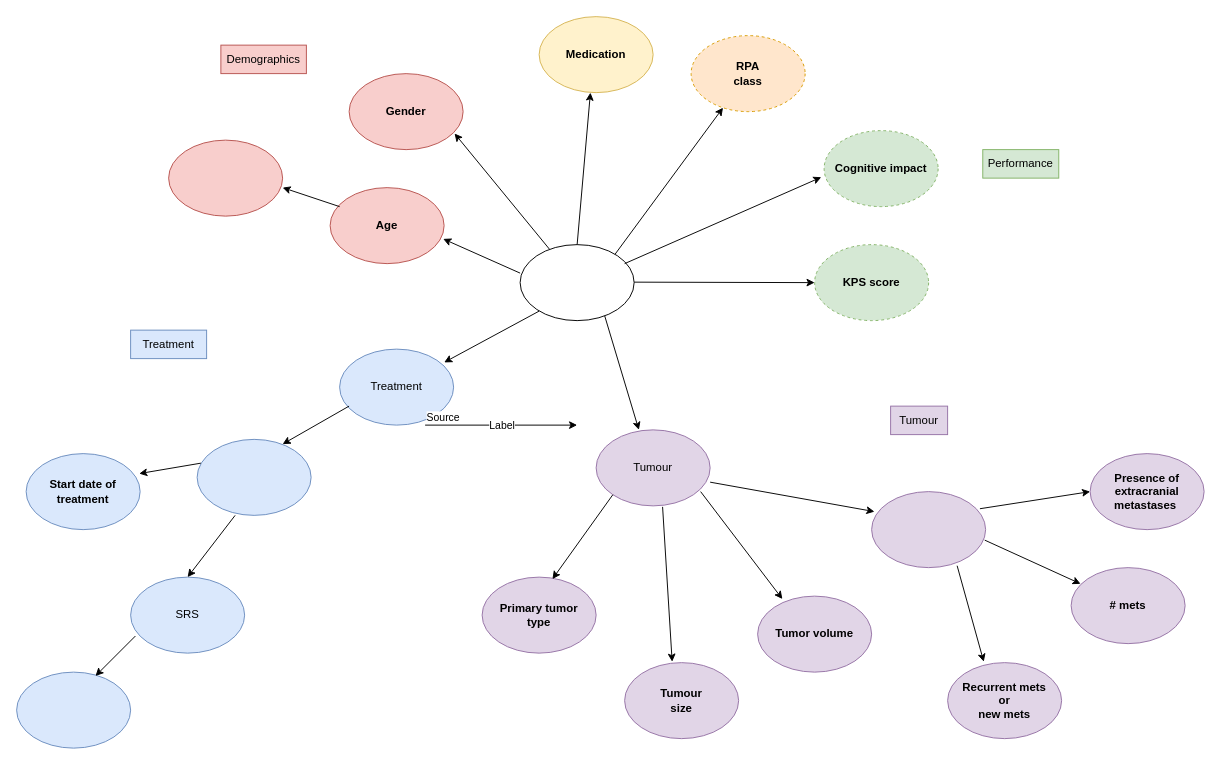
The diagram is 1221 pixels wide and 765 high, and some of its shapes have lost their labels. The centre of each missing label's shape, as x and y in pixels:
"Metastasis" belongs at [928,529].
"Patient" belongs at [576,282].
"SRS dose" belongs at [73,709].
"Treatment type" belongs at [253,476].
"Years" belongs at [225,177].
